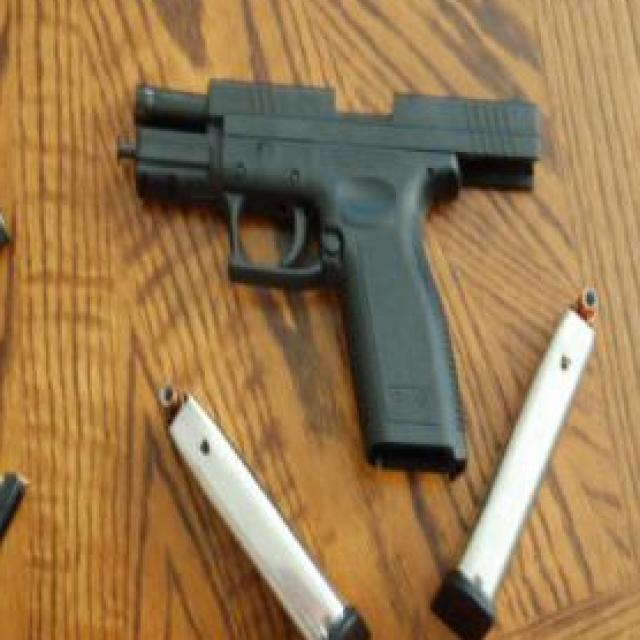pistol: (112, 80, 546, 486)
